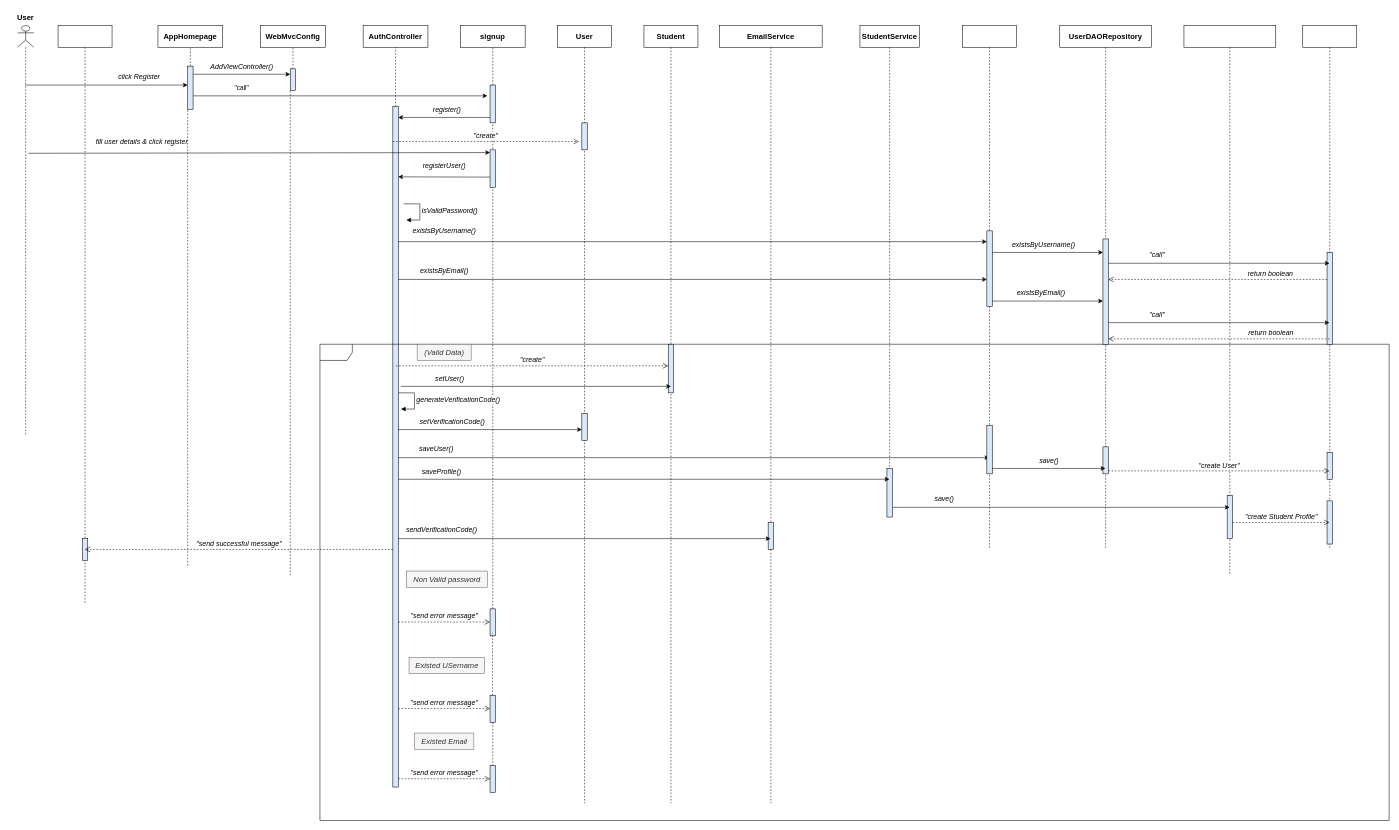
The diagram is 1399 pixels wide and 830 high, and some of its shapes have lost their labels. Here are the shapes that lost their labels. From the top down, the box of each, then its label:
(962, 25, 1017, 549): UserService
(1183, 25, 1276, 575): StudentDAORepository
(1302, 25, 1357, 549): Database (MySQL)
(58, 25, 112, 603): LoginPage
(319, 344, 1389, 821): alt
